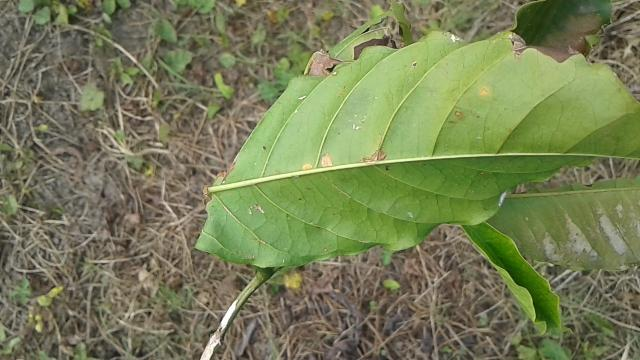rust_level_1: (197, 30, 640, 268)
